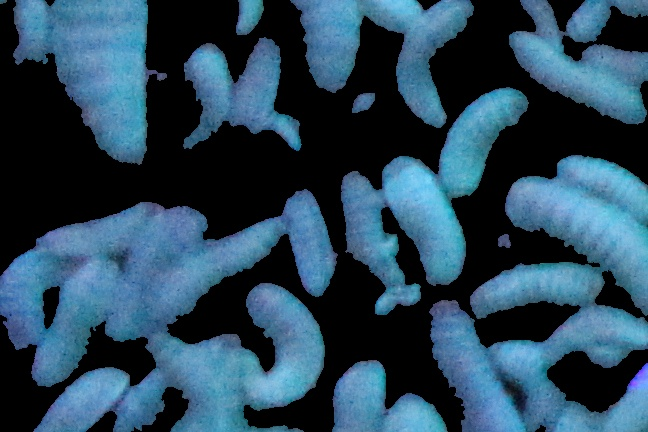larvae: (505, 175, 648, 314), (47, 1, 153, 164), (156, 215, 287, 324), (510, 29, 648, 122), (429, 300, 522, 432), (118, 204, 210, 331), (35, 254, 121, 383), (383, 156, 466, 284), (247, 280, 326, 407), (440, 88, 528, 199), (399, 1, 473, 126), (473, 260, 604, 316), (152, 339, 230, 432), (286, 1, 360, 91), (555, 147, 648, 217), (493, 338, 561, 432), (34, 200, 154, 253), (176, 41, 233, 152), (36, 366, 127, 432), (283, 191, 338, 297), (330, 171, 387, 273), (1, 246, 57, 349), (233, 38, 284, 146), (548, 305, 648, 360), (332, 356, 392, 432), (117, 370, 174, 432), (579, 42, 648, 81), (389, 390, 449, 432), (363, 1, 424, 34), (582, 343, 632, 368)
